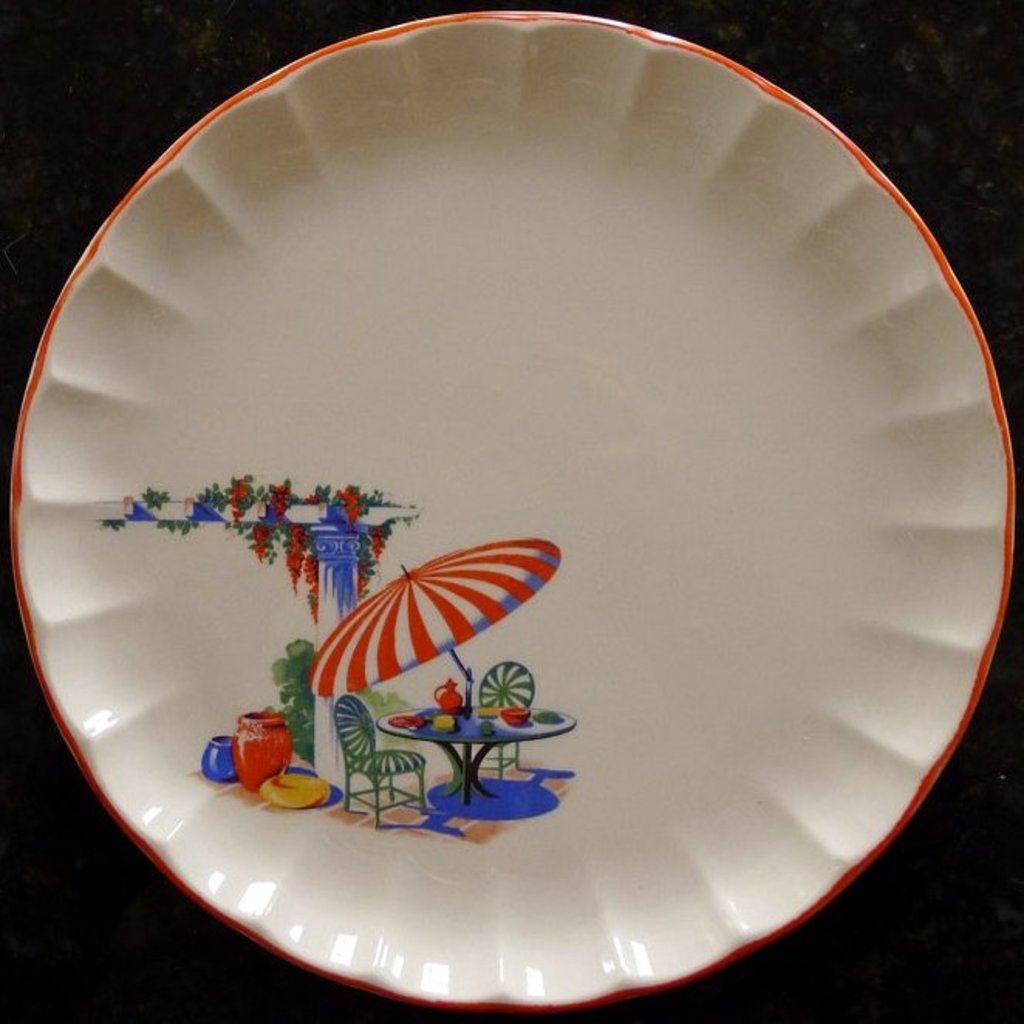plate: (9, 9, 1013, 1016)
